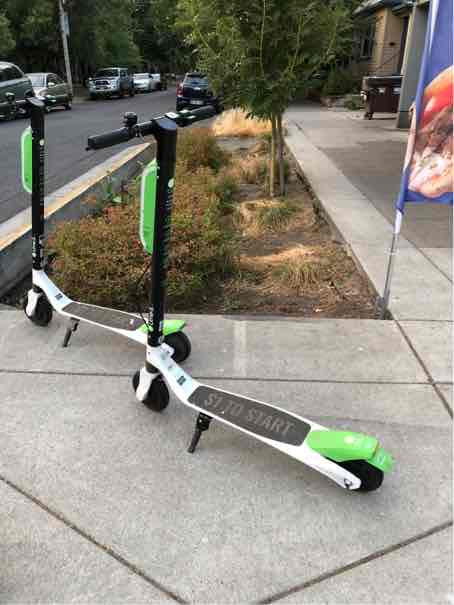scooter: (87, 99, 392, 502), (1, 87, 192, 372)
